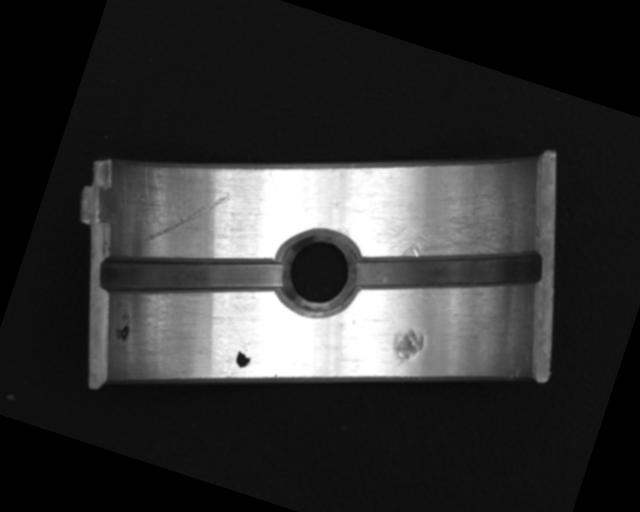blot: (111, 310, 136, 344), (231, 342, 254, 370)
bruise: (384, 323, 428, 373)
gap: (350, 200, 546, 339), (93, 209, 288, 341)
hole: (268, 221, 368, 326)
nick: (145, 171, 232, 261)
scratch: (371, 158, 538, 297)
